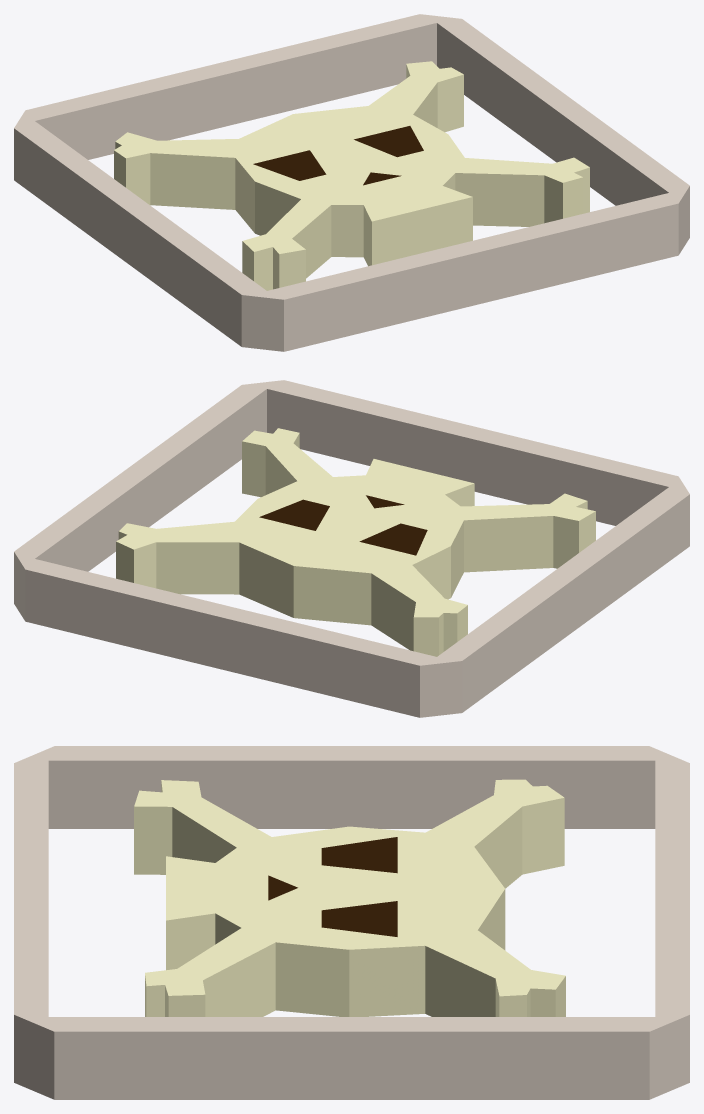
File: bonus_destroy.glb
3 views of the same model, one above another, from view 1: azimuth 30°, elevation 25°; view 2: azimuth 150°, elevation 25°; view 3: azimuth 270°, elevation 25° (orthographic). The views are drawn at different scales.
Parts seen in each view (by area): view 1: bonus_destroy; view 2: bonus_destroy; view 3: bonus_destroy.
Part boxes in pixels (x1,y1,x2,y2): bonus_destroy: (14, 14, 689, 351); bonus_destroy: (14, 380, 689, 717); bonus_destroy: (14, 746, 689, 1099).
Size of the model in its own units: 1.8 by 0.2 by 1.8.
Materials: 1 (1 with a texture image).
